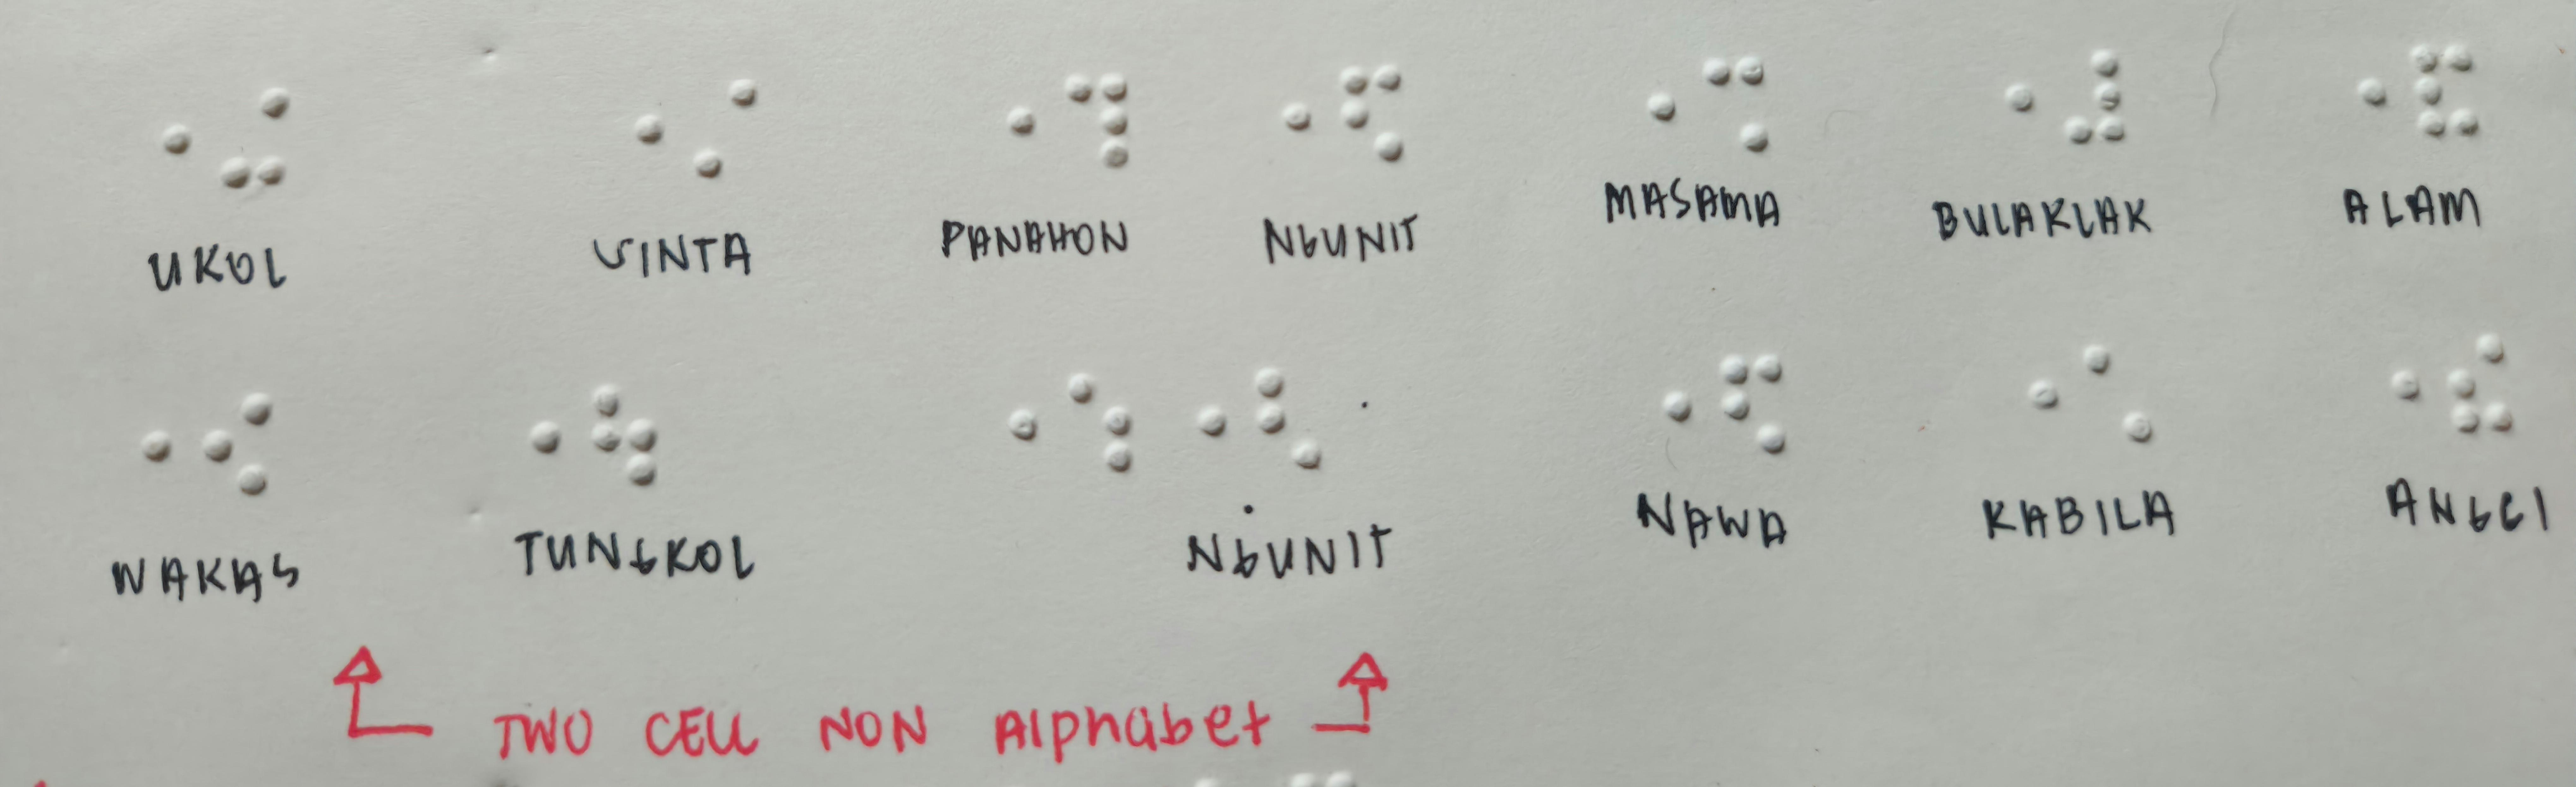dot_5: (596, 81, 665, 182), (969, 74, 1038, 176), (1610, 59, 1679, 161), (1965, 49, 2034, 151), (1161, 375, 1230, 476), (493, 386, 562, 488), (2320, 44, 2389, 145), (2351, 340, 2420, 440), (1623, 357, 1692, 457), (1989, 350, 2057, 452), (105, 391, 172, 493), (125, 87, 192, 187)
two_cell_non_alphabet_alam: (2412, 41, 2481, 143)
two_cell_non_alphabet_anggi: (2445, 335, 2512, 435)
two_cell_non_alphabet_bulaklak: (2057, 46, 2126, 148)
two_cell_non_alphabet_kabila: (2081, 345, 2149, 447)
two_cell_non_alphabet_masama: (1700, 54, 1769, 156)
two_cell_non_alphabet_nawa: (1718, 355, 1787, 455)
two_cell_non_alphabet_ngunit: (1252, 370, 1319, 470)
two_cell_non_alphabet_panahon: (1061, 72, 1130, 174)
two_cell_non_alphabet_sinta: (690, 77, 757, 177)
two_cell_non_alphabet_tungkol: (588, 384, 657, 486)
two_cell_non_alphabet_ukol: (220, 89, 289, 191)
two_cell_non_alphabet_wakas: (202, 396, 269, 496)
